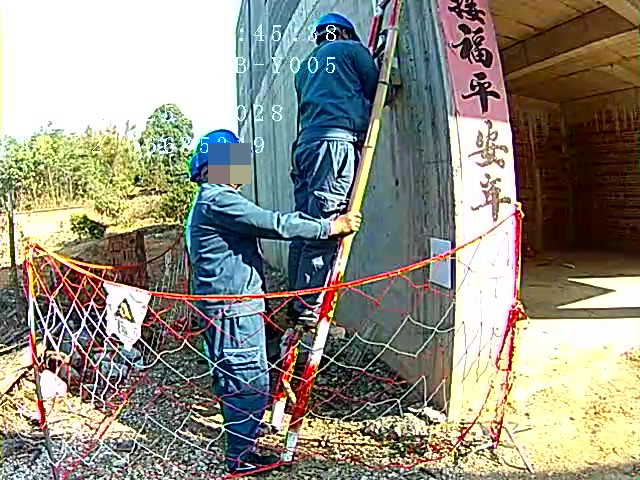downsuit: (289, 139, 356, 302), (201, 306, 269, 460)
halt: (191, 128, 253, 188), (314, 13, 358, 44)
hand: (333, 208, 364, 234)
inear: (208, 156, 237, 182)
person: (183, 128, 287, 479), (288, 9, 386, 313), (293, 10, 377, 327)
support: (189, 126, 365, 477)
upsuit: (187, 180, 323, 300), (295, 40, 380, 135)
